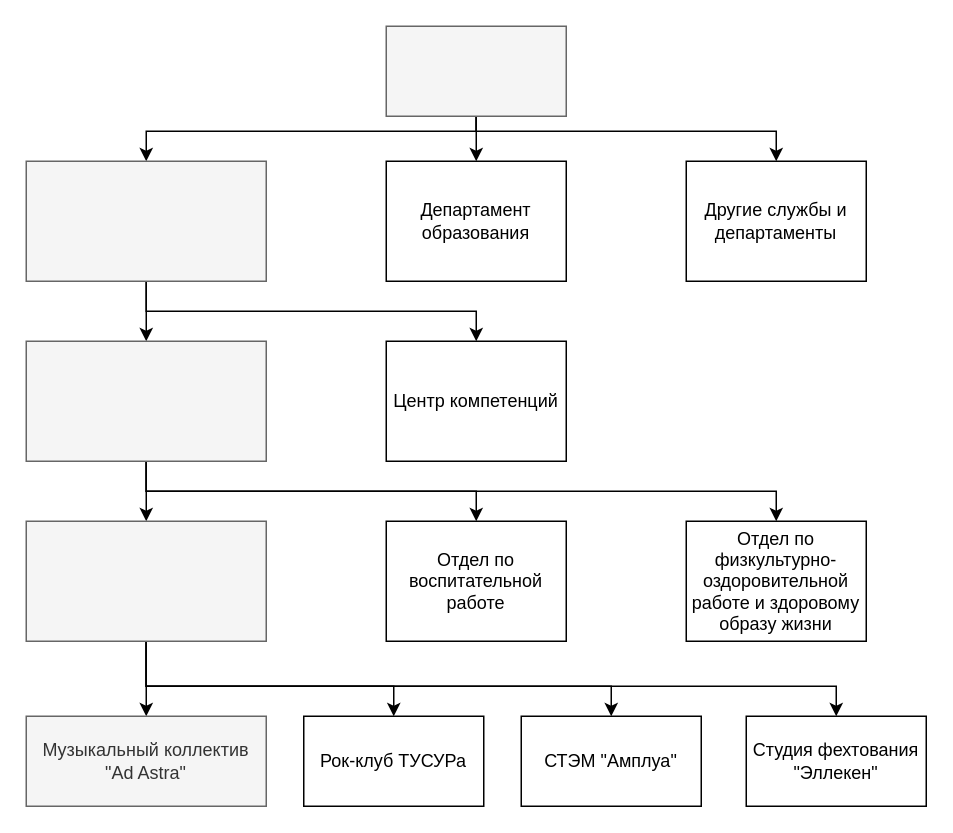
Image size: 953x833. Some labels were removed from this diagram. The centre of each missing label's shape, as x and y in pixels:
Отдел по культурно-массовой работе: the point at 145,580
Службы проректора по молодёжной политике и воспитательной деятельности: the point at 145,220
ТУСУР Ректор: the point at 475,70
Управление воспитательной работы (УВР): the point at 145,400
